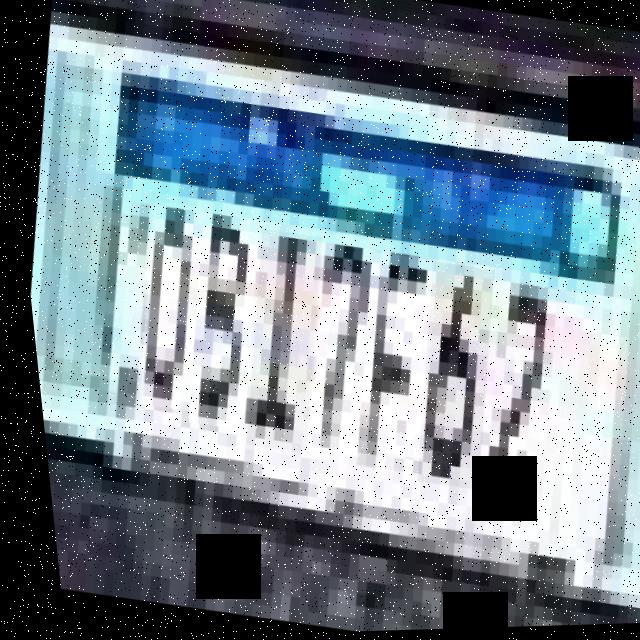0: (114, 200, 216, 414)
6: (388, 262, 505, 493)
7: (280, 233, 388, 460)
B: (161, 199, 278, 433)
F: (334, 252, 447, 463)
I: (218, 229, 333, 456)
